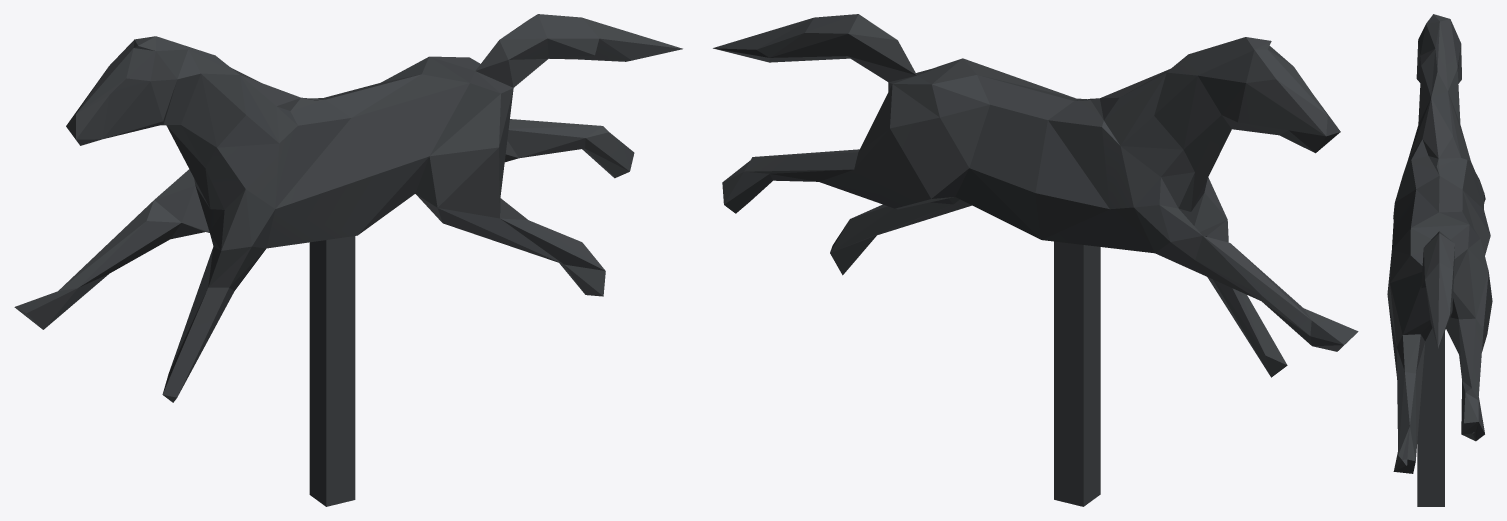
File: SM_Prop_Horse_Game_01_Horse_07.obj
The picture shows the model from 3 angles, left to right: view 1: azimuth 30°, elevation 25°; view 2: azimuth 150°, elevation 25°; view 3: azimuth 270°, elevation 25°; orthographic projection. The views are drawn at different scales.
Visible parts, largest first — view 1: SM_Prop_Horse_Game_01_Horse_07_0; view 2: SM_Prop_Horse_Game_01_Horse_07_0; view 3: SM_Prop_Horse_Game_01_Horse_07_0.
Part boxes in pixels (x1=…): SM_Prop_Horse_Game_01_Horse_07_0: x1=14, y1=14, x2=682, y2=506; SM_Prop_Horse_Game_01_Horse_07_0: x1=713, y1=14, x2=1358, y2=506; SM_Prop_Horse_Game_01_Horse_07_0: x1=1387, y1=14, x2=1492, y2=506.
Bounding box in the file's own units: 0.3008 × 0.2217 × 0.0514.
1 material, 1 textured.
